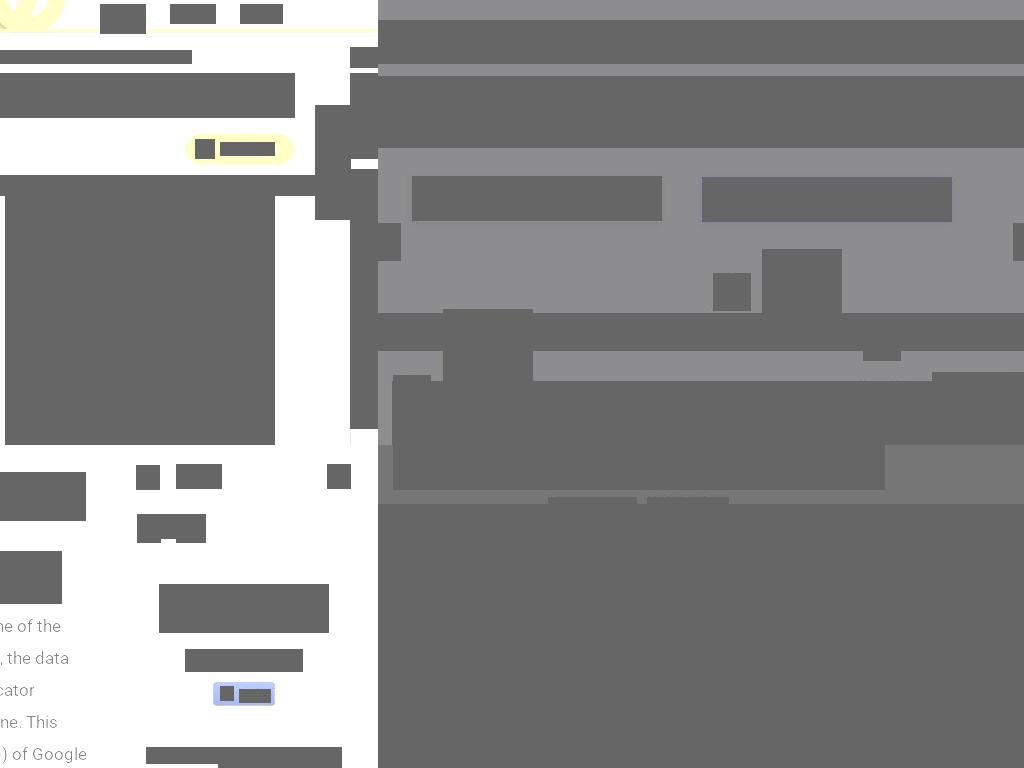button: (702, 177, 952, 222), (447, 548, 628, 592), (650, 548, 831, 592), (185, 649, 303, 672), (137, 514, 206, 539), (100, 4, 146, 34)
field: (0, 73, 295, 118)
heading: (378, 20, 1024, 64), (176, 464, 222, 489), (176, 518, 206, 543)
iframe: (159, 584, 329, 633)
image: (378, 504, 1024, 768), (5, 196, 275, 445), (378, 670, 1024, 768), (392, 381, 972, 445), (378, 313, 1024, 351), (443, 309, 533, 399), (932, 372, 1024, 445), (762, 249, 842, 330), (315, 105, 351, 220), (350, 73, 378, 138), (350, 169, 378, 234), (350, 234, 378, 299), (350, 299, 378, 364), (350, 364, 378, 429), (713, 273, 751, 311), (393, 375, 431, 413), (863, 323, 901, 361), (783, 383, 821, 421), (378, 223, 401, 261), (137, 518, 161, 543), (350, 429, 378, 445), (1013, 223, 1024, 261), (195, 139, 215, 159), (220, 686, 234, 701)
link: (218, 747, 342, 768), (170, 4, 216, 24), (240, 4, 283, 24)
text: (378, 76, 1024, 148), (393, 445, 885, 490), (412, 176, 662, 221), (702, 177, 952, 222), (0, 175, 330, 196), (0, 84, 129, 105), (548, 497, 637, 526), (146, 747, 292, 764), (647, 497, 729, 525), (192, 654, 295, 667), (103, 50, 192, 64), (220, 142, 275, 156), (50, 50, 103, 64), (0, 50, 50, 64), (136, 465, 160, 490), (327, 464, 351, 489), (239, 689, 271, 703)
